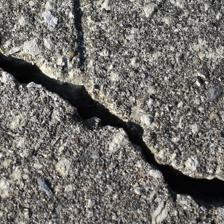Crack: (4, 26, 218, 183)
